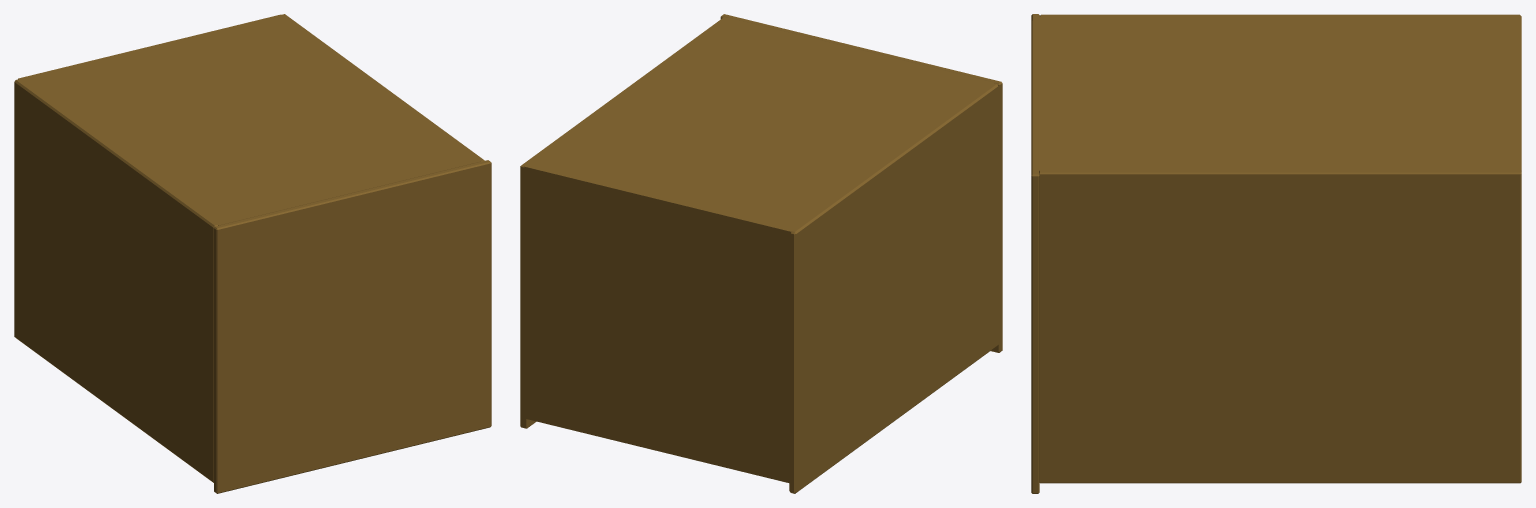
File: DressermeshDresser_318_0.obj
3 renders of one model, left to right at view 1: azimuth 30°, elevation 25°; view 2: azimuth 150°, elevation 25°; view 3: azimuth 270°, elevation 25°, orthographic. The views are drawn at different scales.
Visible parts, largest first — view 1: Dresser_318; view 2: Dresser_318; view 3: Dresser_318.
Boxes of the visible parts, <box> form: Dresser_318: <box>14,14,491,493</box>; Dresser_318: <box>520,14,1002,493</box>; Dresser_318: <box>1031,14,1521,493</box>.
Bounding box in the file's own units: 0.7554 × 0.6965 × 0.9691.
